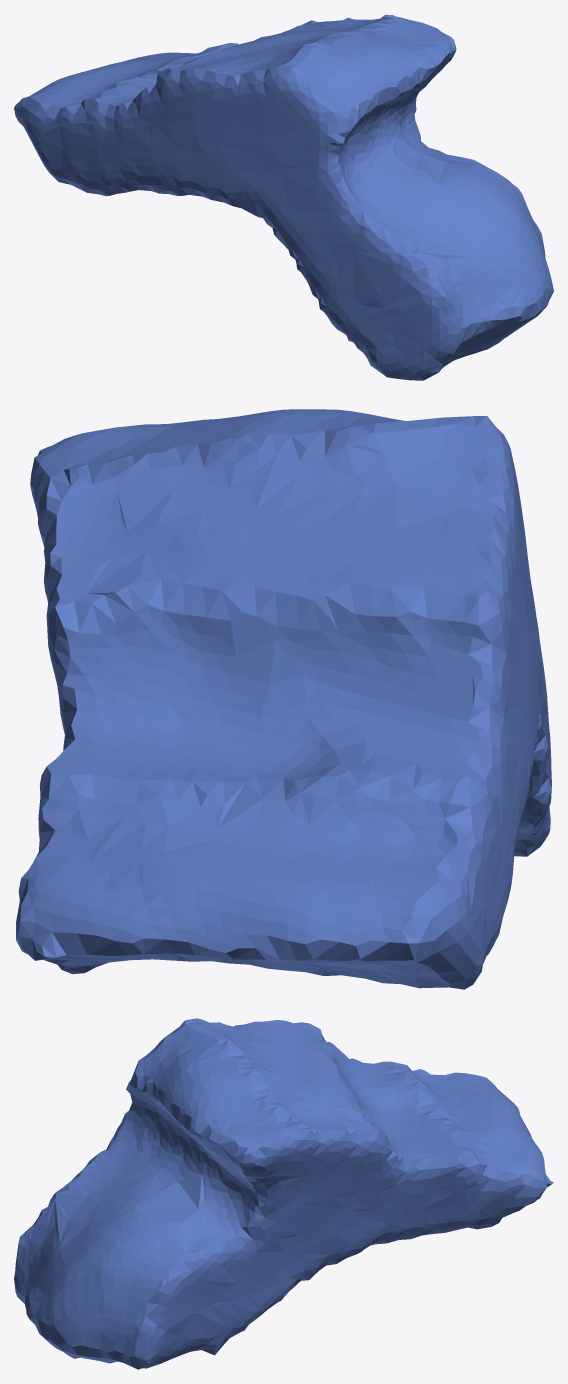
File: Model_10098_LH__Medial_superior_temporal_area_of_cortex_(MST).obj
The picture shows the model from 3 angles, top to bottom: view 1: azimuth 30°, elevation 25°; view 2: azimuth 150°, elevation 25°; view 3: azimuth 270°, elevation 25°; orthographic projection. The views are drawn at different scales.
Size of the model in its own units: 3.38 by 2.5 by 4.54.
